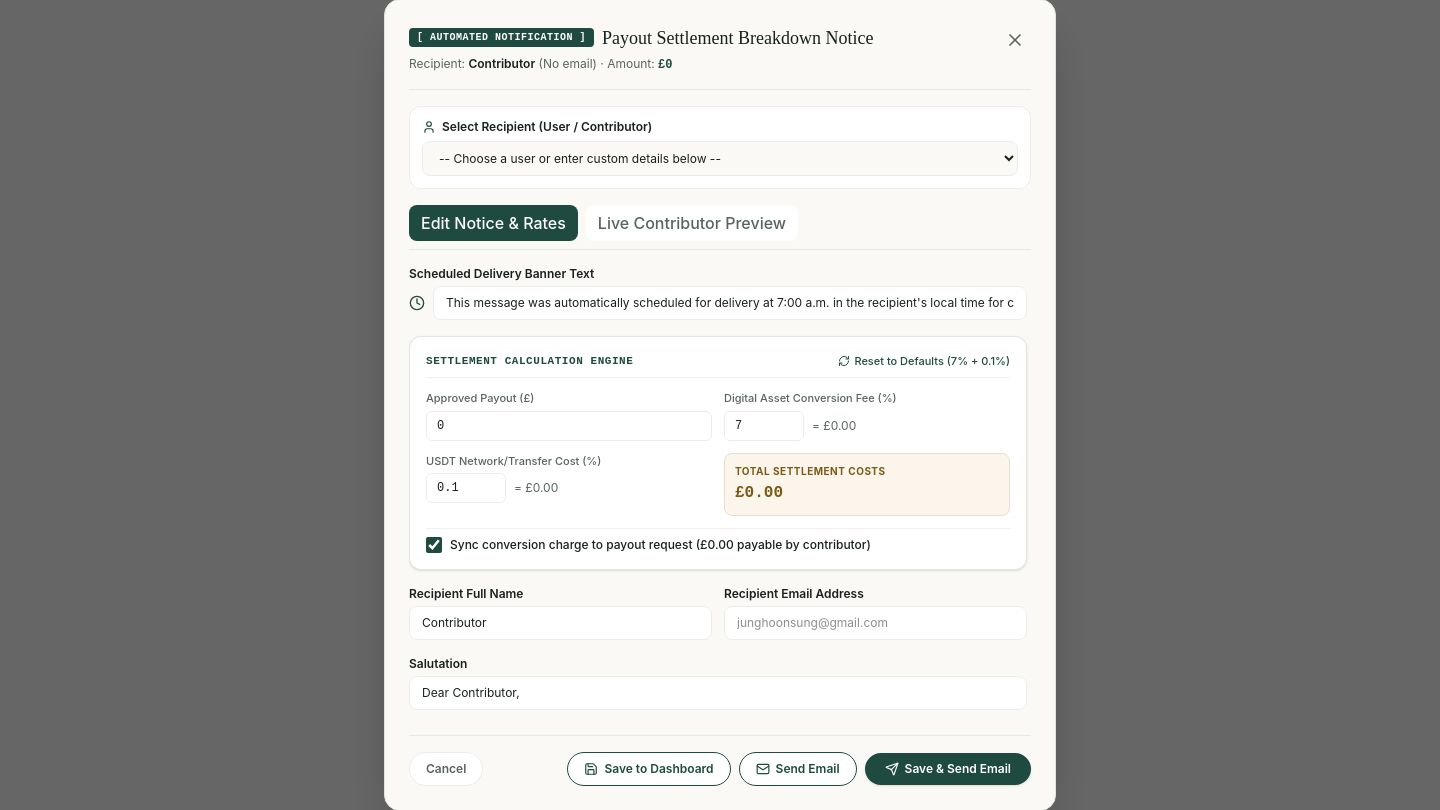
Test: SettlementNoticeModal › switches recipient when another candidate is selected
Step 1. Select "Bob Jones (bob@example.com) · Balance: £8000" in the dropdown → (720, 158), box [422,141,1018,176]
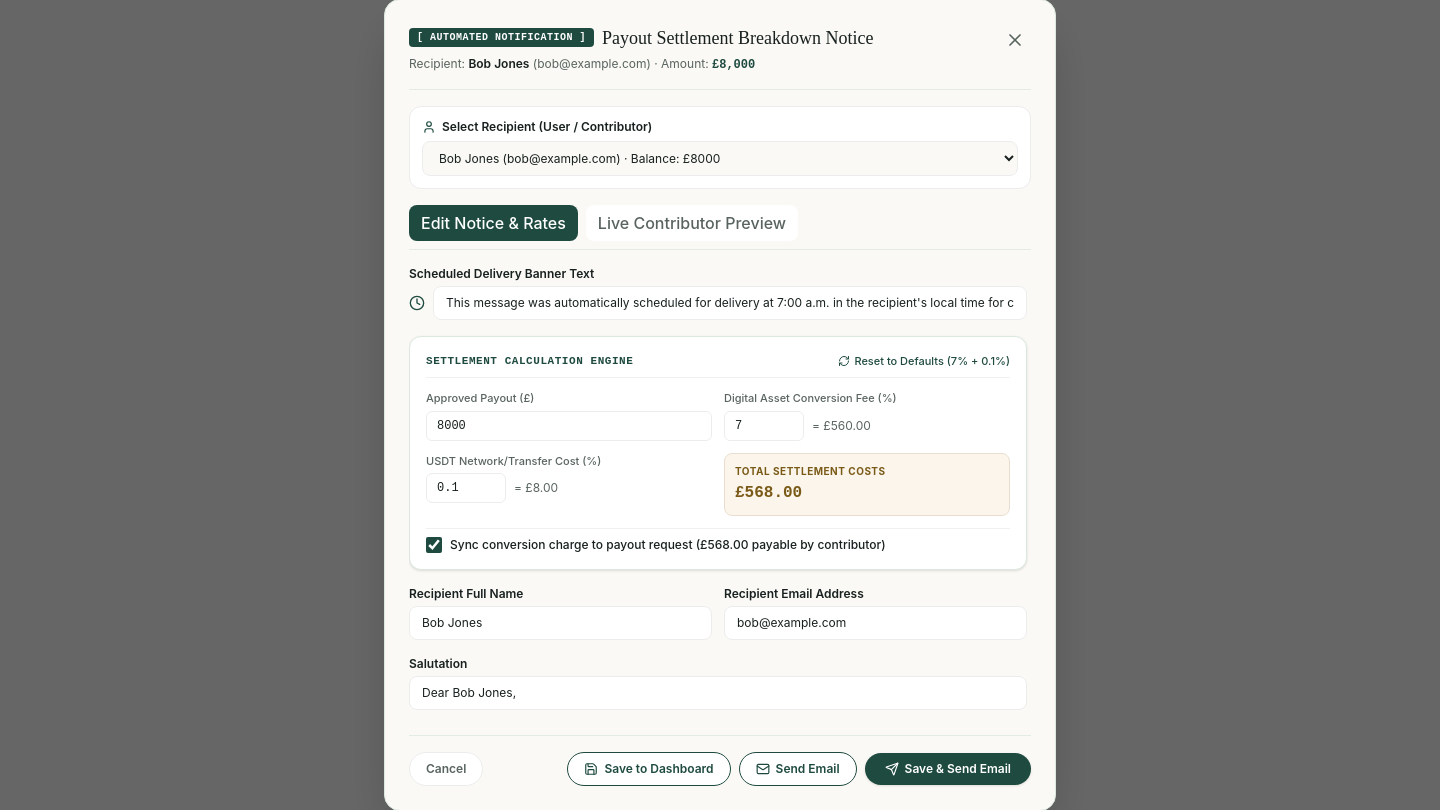
Expected: the field showing "Bob Jones" below "Recipient Full Name" is shown, [409,606,712,640]
Expected: the field showing "bob@example.com" below "Recipient Email Address" is shown, [724,606,1027,640]
Expected: the field showing "Dear Bob Jones," below "Salutation" is shown, [409,676,1027,710]
